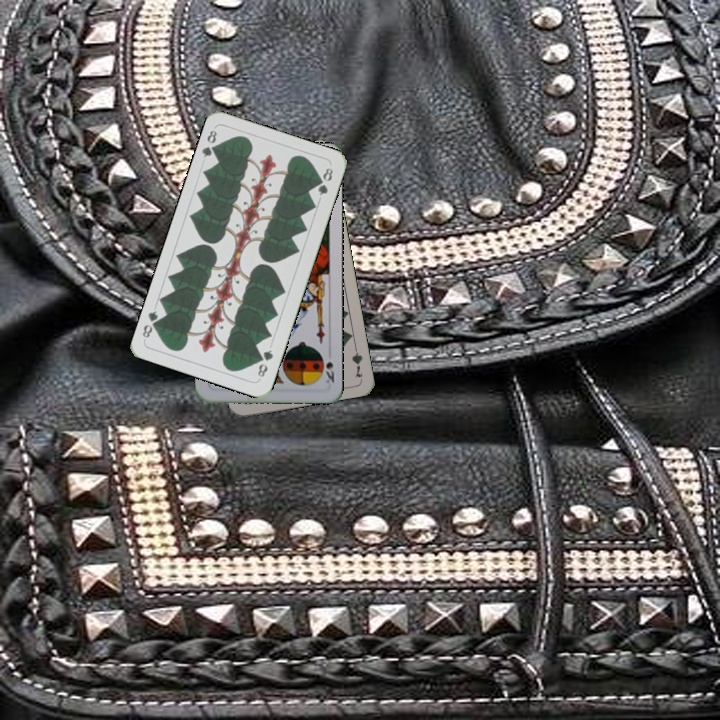G7: (348, 340, 365, 380)
G8: (198, 126, 222, 160), (253, 346, 276, 380)
SK: (321, 346, 337, 387)
